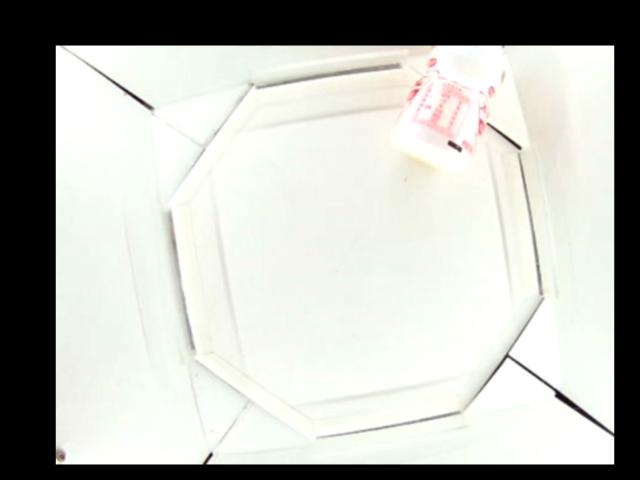Bottle: (390, 46, 509, 173)
